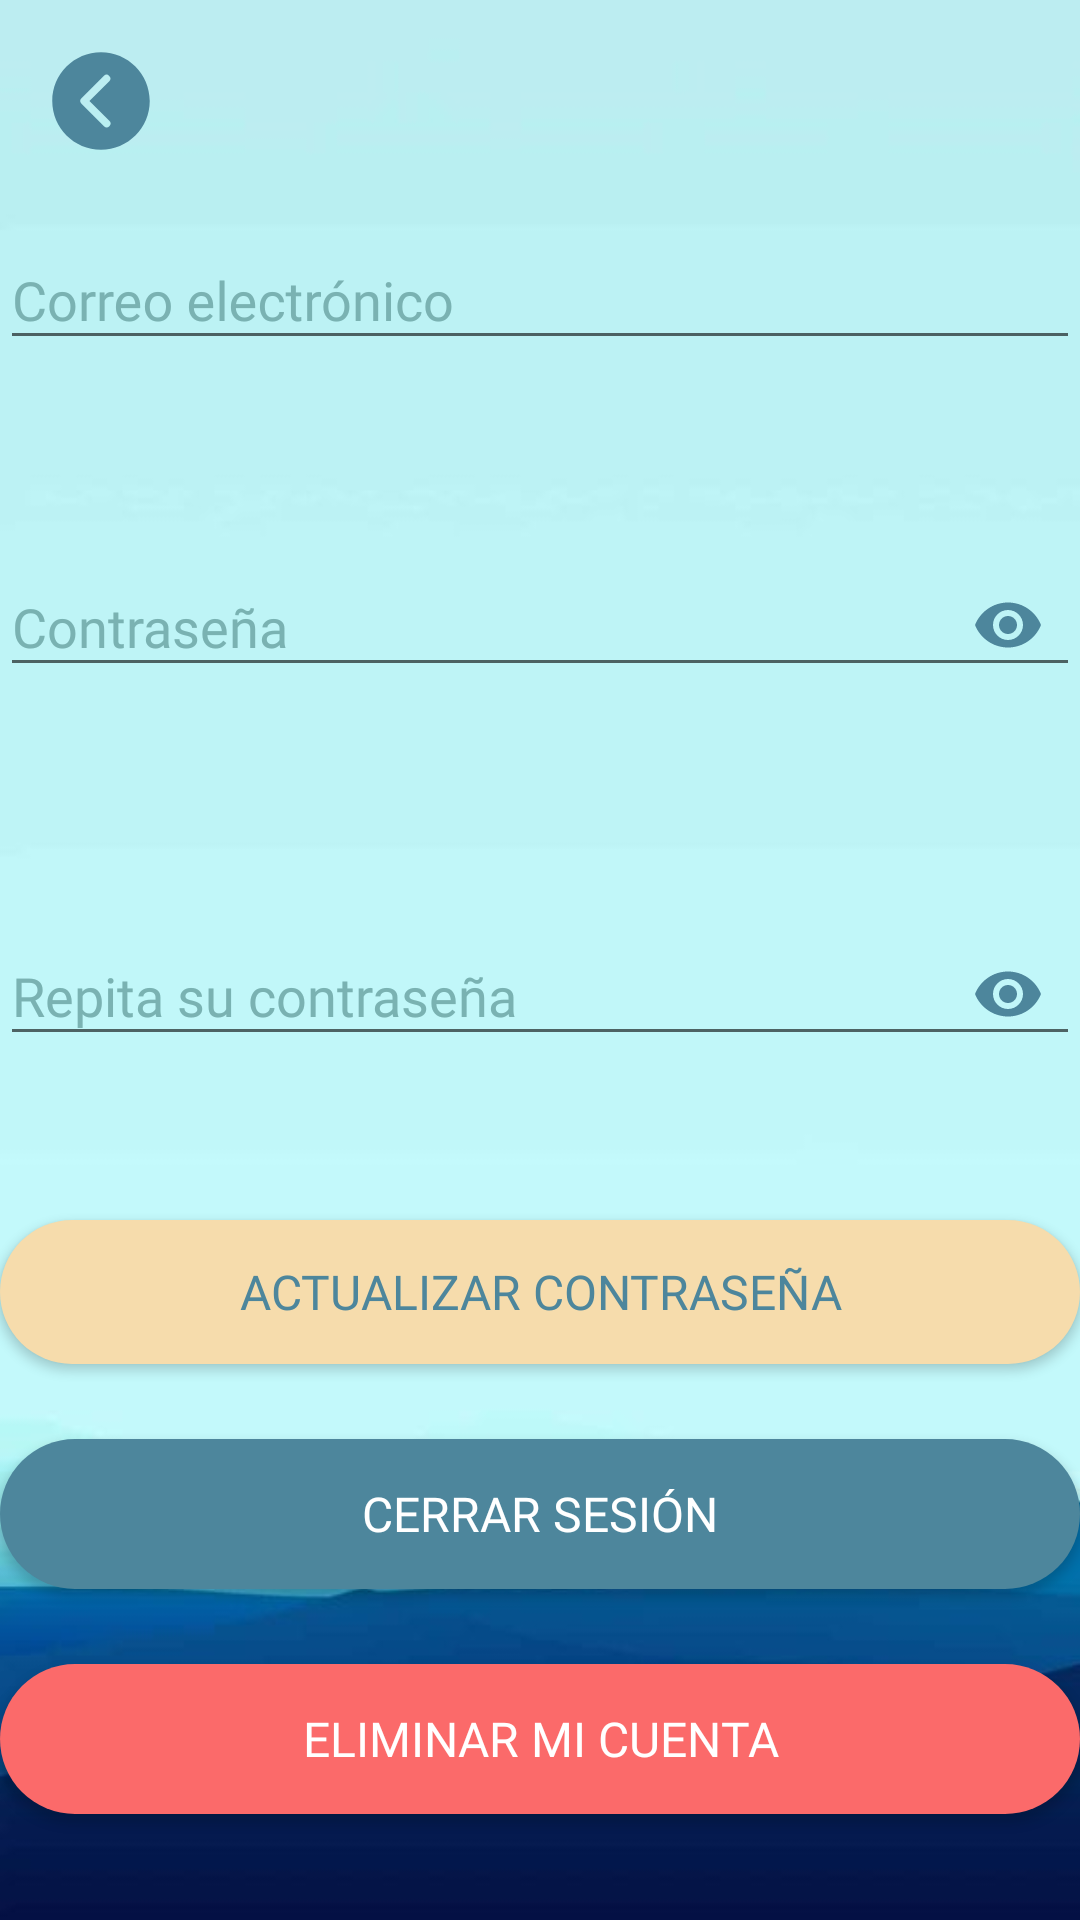

Point at icon controls on the screen. Image size 1080px x 1920px, points as (x,y).
back: (101,101)
